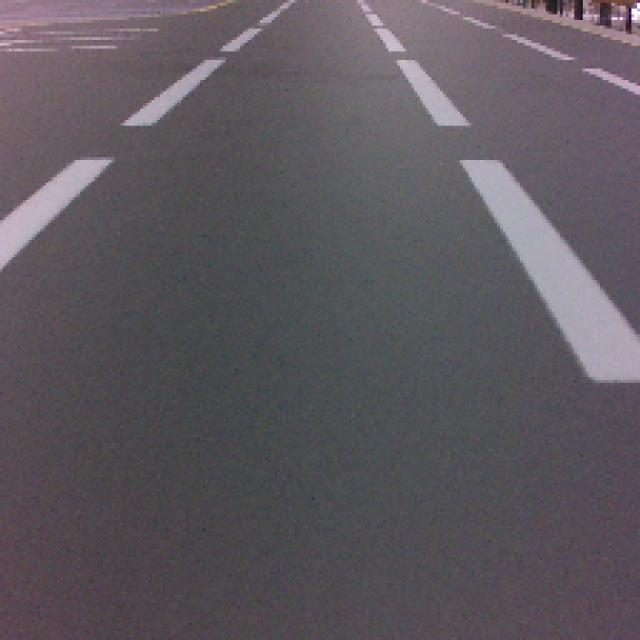Road: (0, 209, 603, 640)
